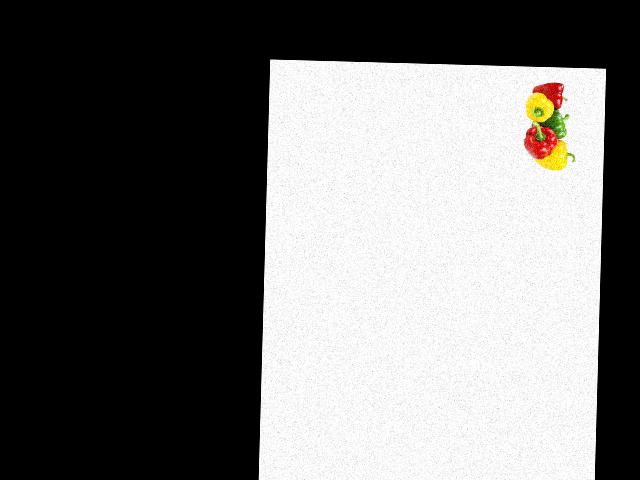bell_pepper: (536, 80, 569, 109)
